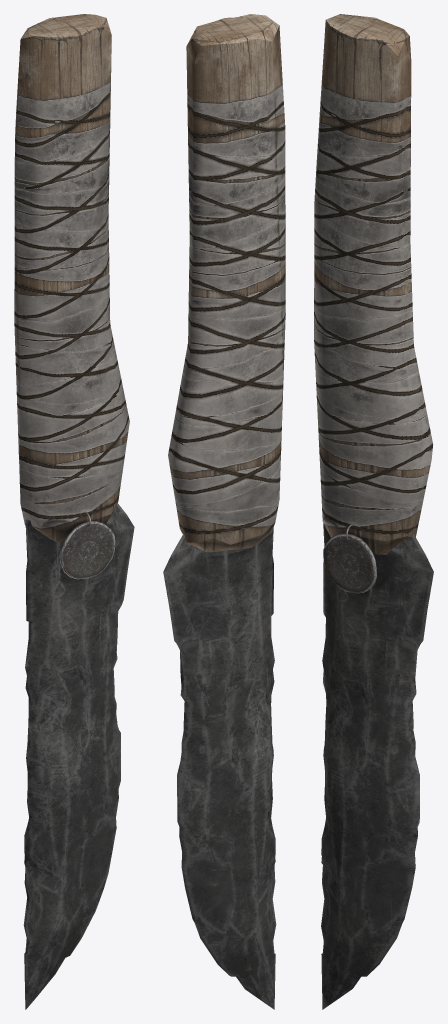
Rendered from SM_Dagger_00.fbx.
3 renders of one model, left to right at view 1: azimuth 30°, elevation 25°; view 2: azimuth 210°, elevation 25°; view 3: azimuth 330°, elevation 25°, orthographic.
Parts seen in each view (by area): view 1: SM_Dagger_01; view 2: SM_Dagger_01; view 3: SM_Dagger_01.
Part boxes in pixels (x1,y1,x2,y2): SM_Dagger_01: [14, 14, 134, 1009]; SM_Dagger_01: [163, 14, 285, 1009]; SM_Dagger_01: [314, 14, 433, 1009].
Bounding box in the file's own units: 4.03 × 32.21 × 2.24.
1 material, 1 textured.
